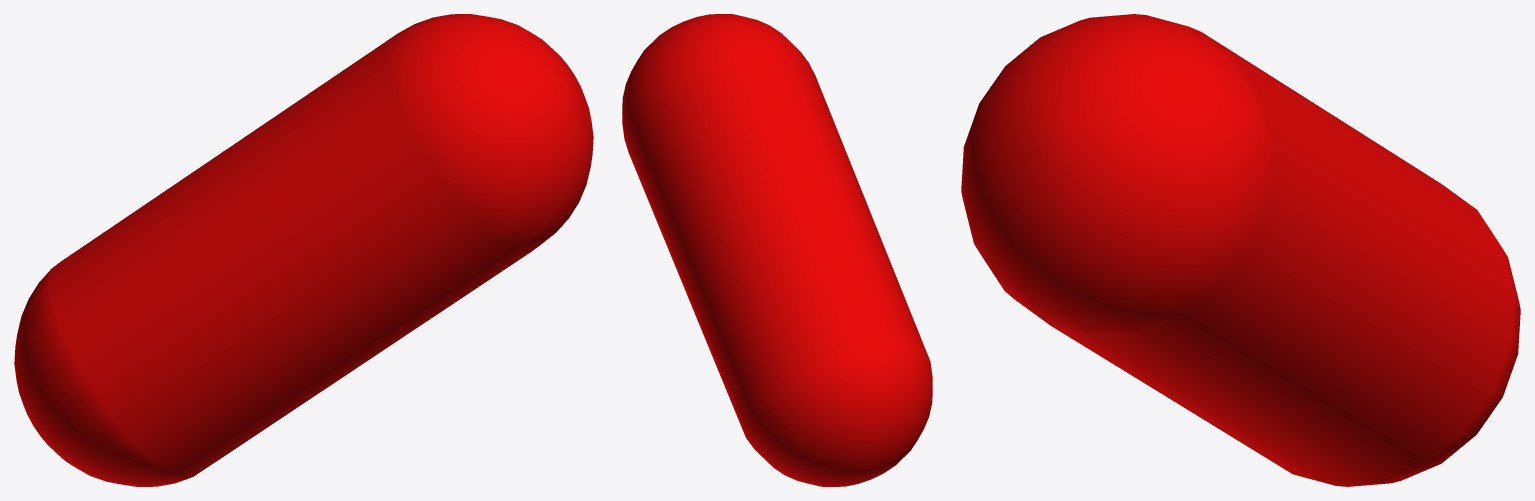
Rendered from CharacterProxy.fbx.
3 renders of one model, left to right at view 1: azimuth 30°, elevation 25°; view 2: azimuth 150°, elevation 25°; view 3: azimuth 270°, elevation 25°, orthographic. The views are drawn at different scales.
Parts seen in each view (by area): view 1: pSphere1; view 2: pSphere1; view 3: pSphere1.
Part boxes in pixels (x1,y1,x2,y2): pSphere1: (14, 14, 593, 486); pSphere1: (622, 14, 932, 486); pSphere1: (961, 14, 1520, 486).
Size of the model in its own units: 0.2393 by 0.1995 by 0.2303.
